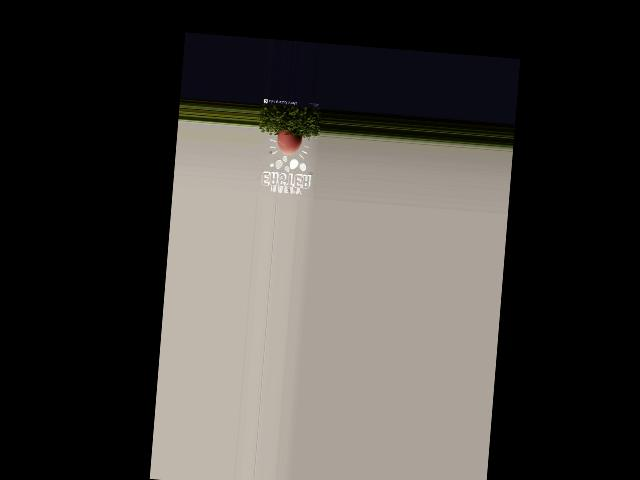egg: (277, 129, 303, 155)
